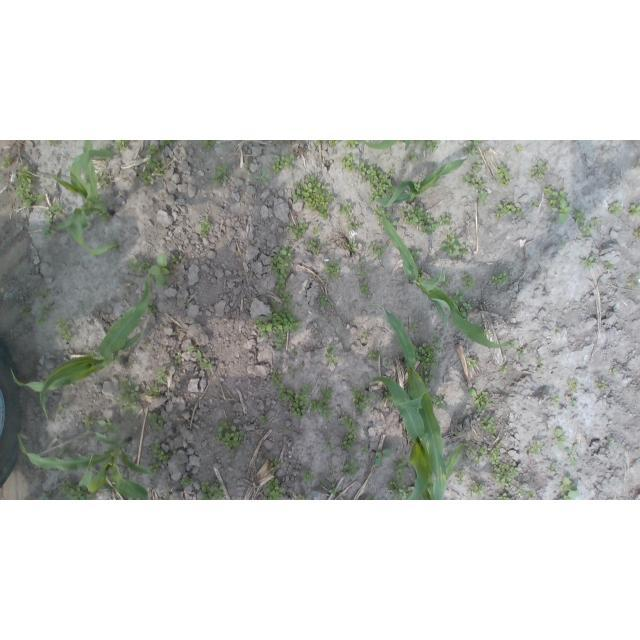Maize: (11, 273, 151, 420), (379, 209, 511, 349), (379, 303, 448, 500), (17, 433, 150, 500), (49, 141, 119, 256), (372, 376, 433, 500), (375, 154, 484, 205), (416, 442, 471, 500), (357, 140, 411, 150)
Weeds: (291, 172, 335, 220), (358, 160, 394, 205), (401, 204, 440, 236), (270, 244, 295, 293), (545, 187, 572, 226), (267, 307, 301, 337), (215, 419, 245, 451), (148, 252, 173, 288), (440, 231, 468, 263), (14, 164, 34, 207), (448, 289, 473, 323), (340, 413, 360, 452), (492, 461, 521, 487), (58, 480, 94, 500), (120, 378, 141, 412), (413, 343, 439, 370), (350, 387, 374, 416), (468, 387, 490, 413), (387, 480, 414, 501), (557, 476, 580, 500), (290, 395, 310, 421), (54, 316, 73, 343), (263, 478, 286, 500), (309, 399, 332, 421), (201, 480, 226, 500), (496, 204, 525, 221), (495, 163, 513, 189), (551, 427, 570, 451), (211, 164, 230, 188), (287, 220, 309, 240), (254, 317, 273, 340), (127, 259, 151, 277), (463, 172, 488, 189), (272, 153, 295, 171), (146, 157, 167, 176), (530, 160, 549, 181), (391, 458, 409, 480), (564, 443, 580, 467), (373, 449, 393, 468), (151, 442, 170, 462), (580, 218, 600, 237), (148, 411, 169, 429), (463, 140, 484, 158), (278, 383, 295, 405), (43, 202, 61, 222), (372, 205, 392, 223), (479, 415, 497, 434), (324, 260, 340, 281), (98, 419, 119, 435), (343, 459, 361, 477), (340, 152, 356, 172), (417, 371, 435, 388), (370, 243, 386, 262), (252, 170, 273, 184), (527, 440, 544, 457), (324, 340, 336, 364), (36, 304, 49, 326), (340, 202, 355, 221), (199, 217, 212, 238), (469, 482, 485, 499), (461, 273, 476, 291), (422, 141, 440, 156), (491, 271, 510, 285), (186, 344, 202, 360), (430, 394, 447, 409), (488, 444, 500, 465), (94, 171, 108, 189), (467, 447, 480, 466), (608, 202, 624, 217), (321, 388, 335, 405), (580, 256, 597, 270), (308, 237, 321, 255), (95, 209, 110, 224), (300, 470, 316, 484), (572, 210, 586, 226), (280, 292, 293, 309), (474, 188, 487, 205), (407, 246, 422, 260), (567, 378, 581, 393), (139, 171, 153, 186), (145, 144, 161, 157), (157, 367, 168, 385), (43, 223, 58, 236), (433, 332, 442, 353), (272, 337, 286, 350), (415, 263, 425, 281), (145, 384, 160, 396), (114, 141, 130, 152), (328, 483, 341, 496), (169, 254, 182, 267), (455, 469, 466, 484), (383, 390, 394, 405), (147, 301, 158, 316), (359, 280, 369, 296), (320, 295, 332, 308), (438, 214, 450, 227), (466, 356, 479, 368), (180, 475, 193, 487), (551, 394, 562, 408), (629, 203, 640, 217), (18, 307, 32, 318), (271, 371, 281, 386), (199, 359, 214, 369), (597, 379, 609, 391), (471, 160, 483, 172), (496, 492, 511, 501), (149, 460, 159, 473), (300, 384, 313, 394), (349, 240, 359, 253), (345, 140, 359, 149), (347, 222, 361, 231), (478, 444, 488, 456), (498, 365, 508, 377), (81, 417, 91, 429), (258, 415, 270, 425), (202, 140, 217, 148), (111, 240, 120, 253), (409, 323, 420, 333), (515, 144, 526, 154), (269, 457, 279, 467), (517, 348, 526, 359), (368, 352, 379, 361), (3, 155, 14, 164), (389, 220, 398, 231), (408, 152, 419, 161), (313, 227, 324, 236), (58, 450, 70, 458), (174, 352, 182, 364), (315, 141, 328, 148), (160, 141, 173, 148), (604, 260, 613, 270), (508, 340, 519, 348), (34, 291, 45, 299), (325, 441, 332, 453), (526, 489, 535, 498), (329, 140, 339, 148), (36, 194, 46, 202), (536, 357, 544, 367), (57, 403, 64, 414), (516, 489, 524, 498), (570, 398, 579, 406), (610, 368, 618, 377), (360, 447, 369, 455), (296, 492, 304, 501), (356, 271, 368, 277), (86, 350, 95, 358), (609, 438, 618, 446), (359, 333, 369, 340), (446, 276, 454, 284), (43, 492, 51, 500), (531, 199, 539, 207), (99, 147, 109, 152), (551, 466, 558, 472), (45, 287, 52, 293), (412, 140, 421, 144), (50, 140, 57, 145), (320, 480, 328, 484), (634, 232, 640, 237), (329, 467, 334, 473), (298, 365, 303, 371), (283, 140, 290, 144), (556, 328, 561, 333), (184, 300, 188, 306), (284, 428, 288, 433), (326, 161, 329, 164)
